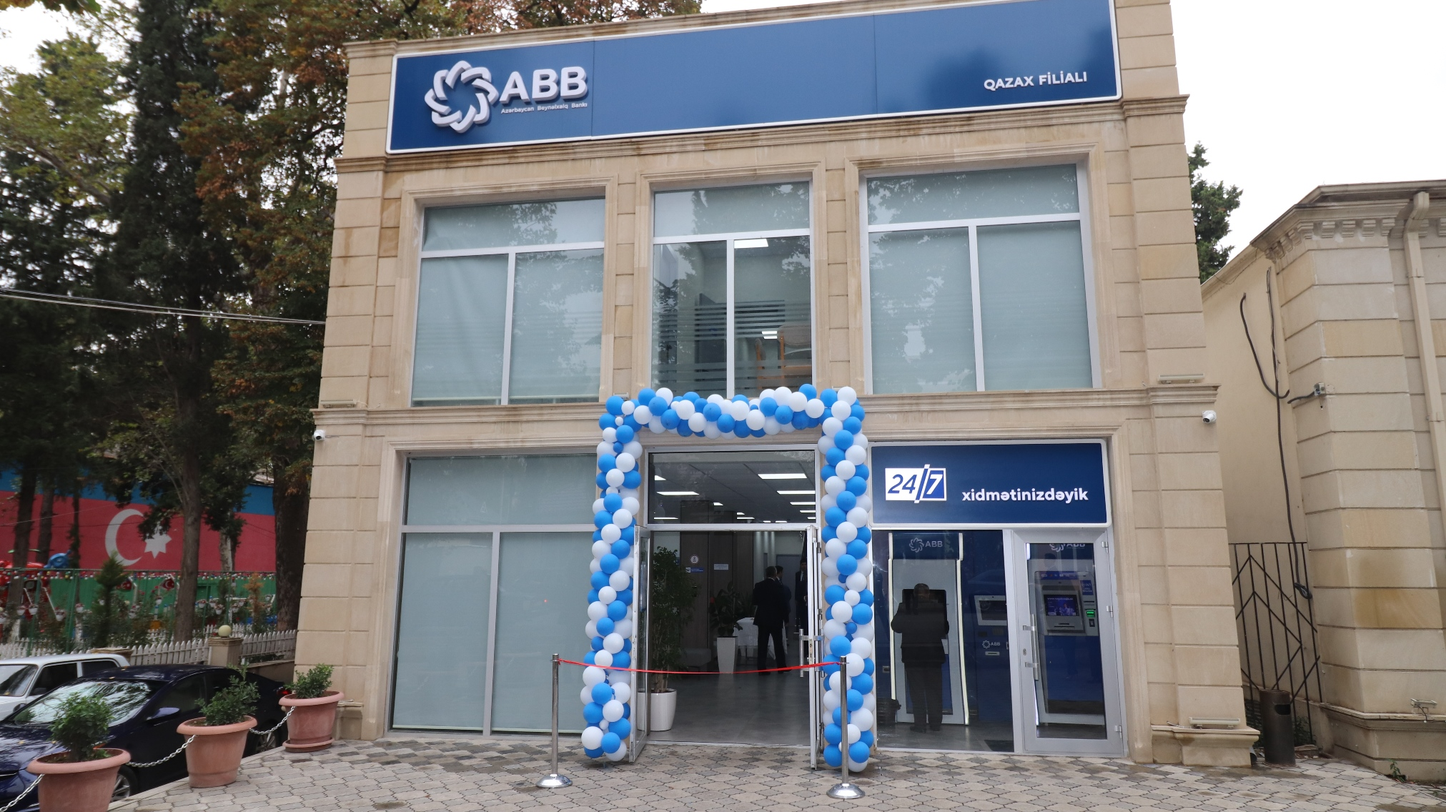ABB: (423, 58, 500, 135), (908, 538, 924, 553), (981, 639, 990, 649)
